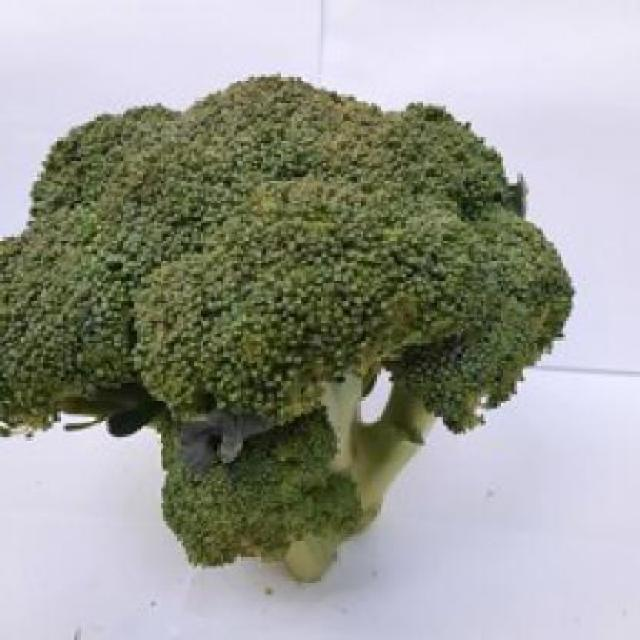broccoli: (21, 85, 554, 570)
